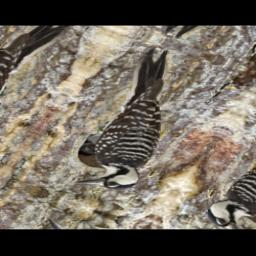Woodpecker: (50, 43, 227, 199)
